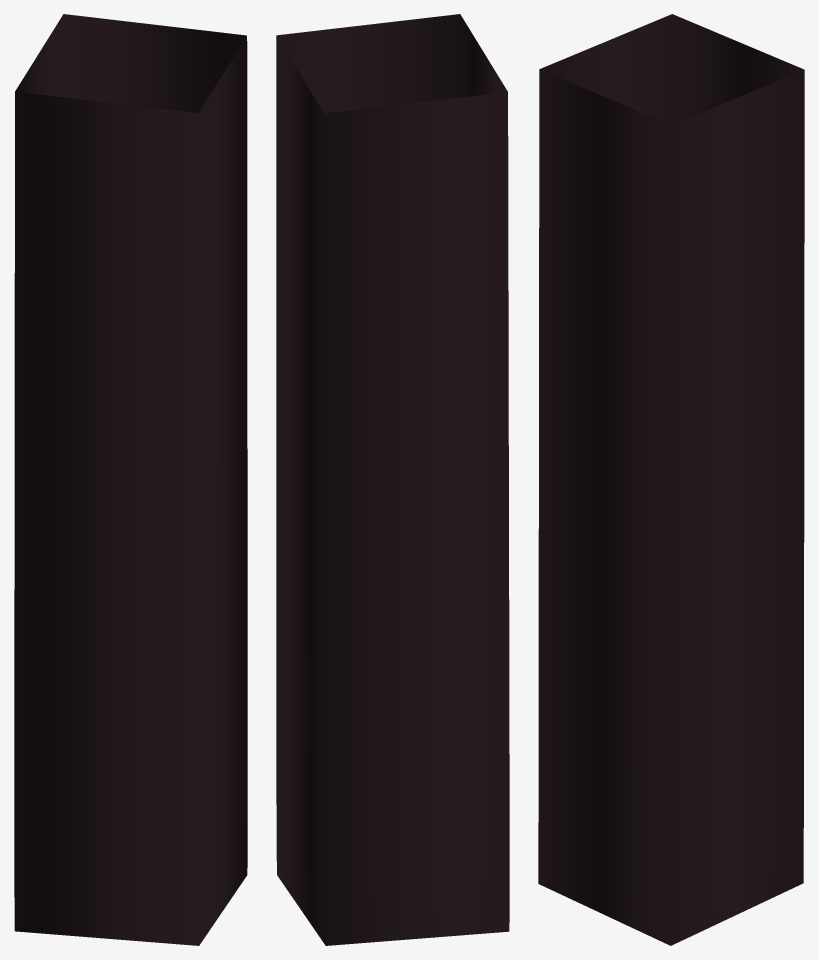
File: LimbThigh.obj
3 renders of one model, left to right at view 1: azimuth 30°, elevation 25°; view 2: azimuth 150°, elevation 25°; view 3: azimuth 270°, elevation 25°, orthographic. The views are drawn at different scales.
Bounding box in the file's own units: 0.3857 × 1.33 × 0.3897.
Materials: 1 (1 with a texture image).
